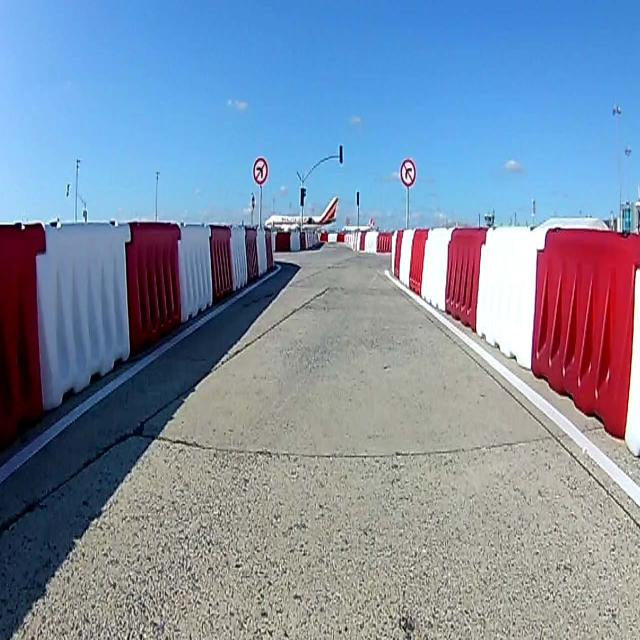sagadonulmez: (400, 158, 418, 186)
soladonulmez: (253, 160, 268, 187)
